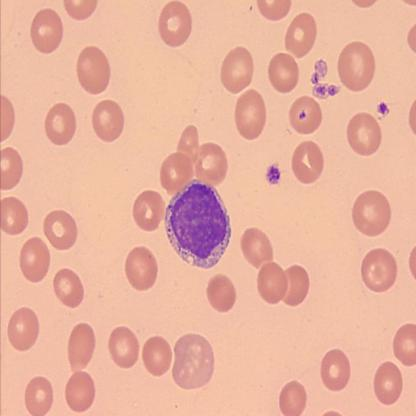Myelocyte: (162, 178, 232, 268)
